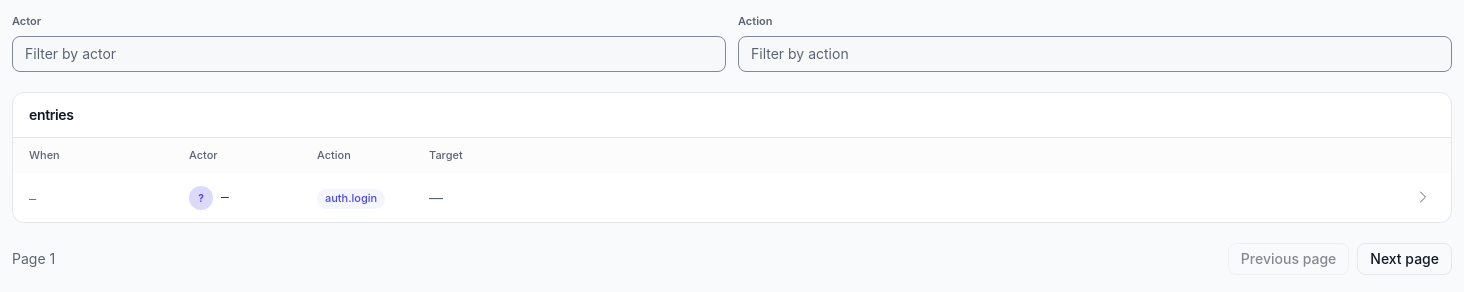
it: AuditLogPage keyset paging › walks forward with next_cursor, back from the cursor stack, and stops at the last page
Expected: the button "Previous page" is disabled, [1228,243,1349,275]
Click the button "Next page". click: (1405, 259)
box: [1357,243,1452,275]
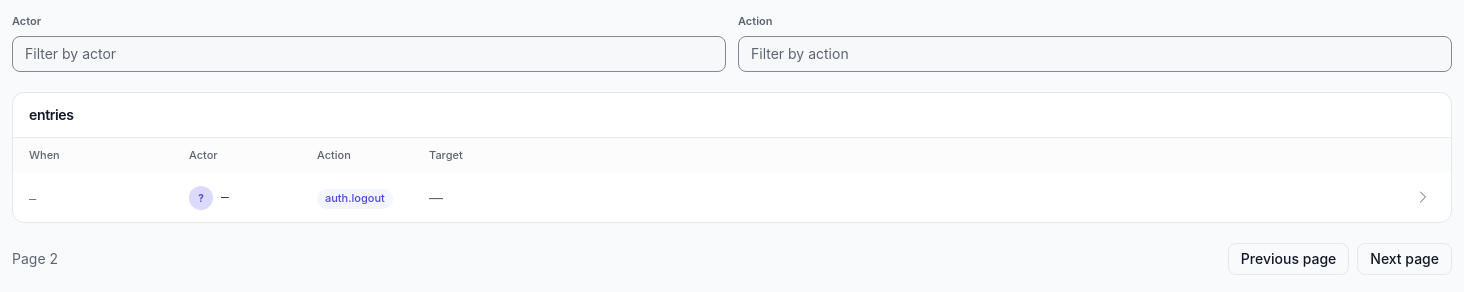
Result: the text "auth.logout" is shown at [317,189,393,208]
Result: the text "Page 2" is shown at [12,249,58,269]
Click the button "Next page". click: (1405, 259)
box: [1357,243,1452,275]
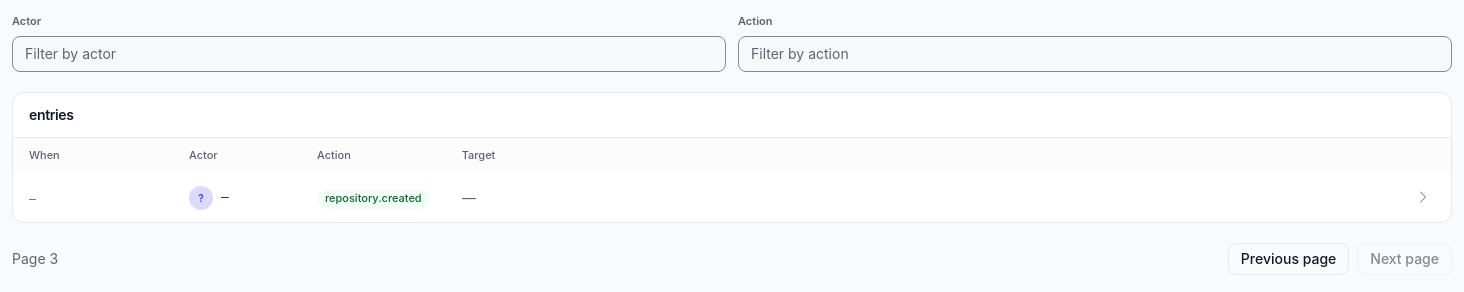
Result: the text "repository.created" is shown at [317,189,430,208]
Result: the button "Next page" is disabled at [1357,243,1452,275]
Click the button "Previous page". click: (1289, 259)
box: [1228,243,1349,275]
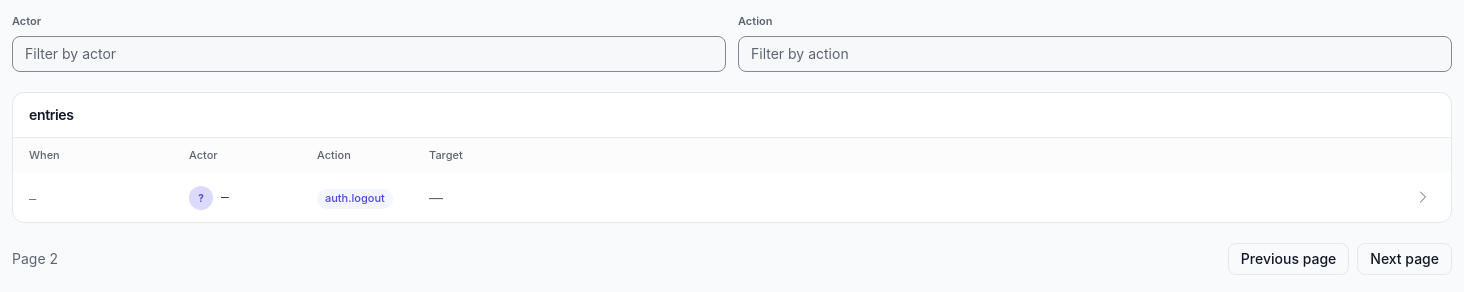
Result: the text "auth.logout" is shown at [317,189,393,208]
Result: the button "Next page" is enabled at [1357,243,1452,275]
